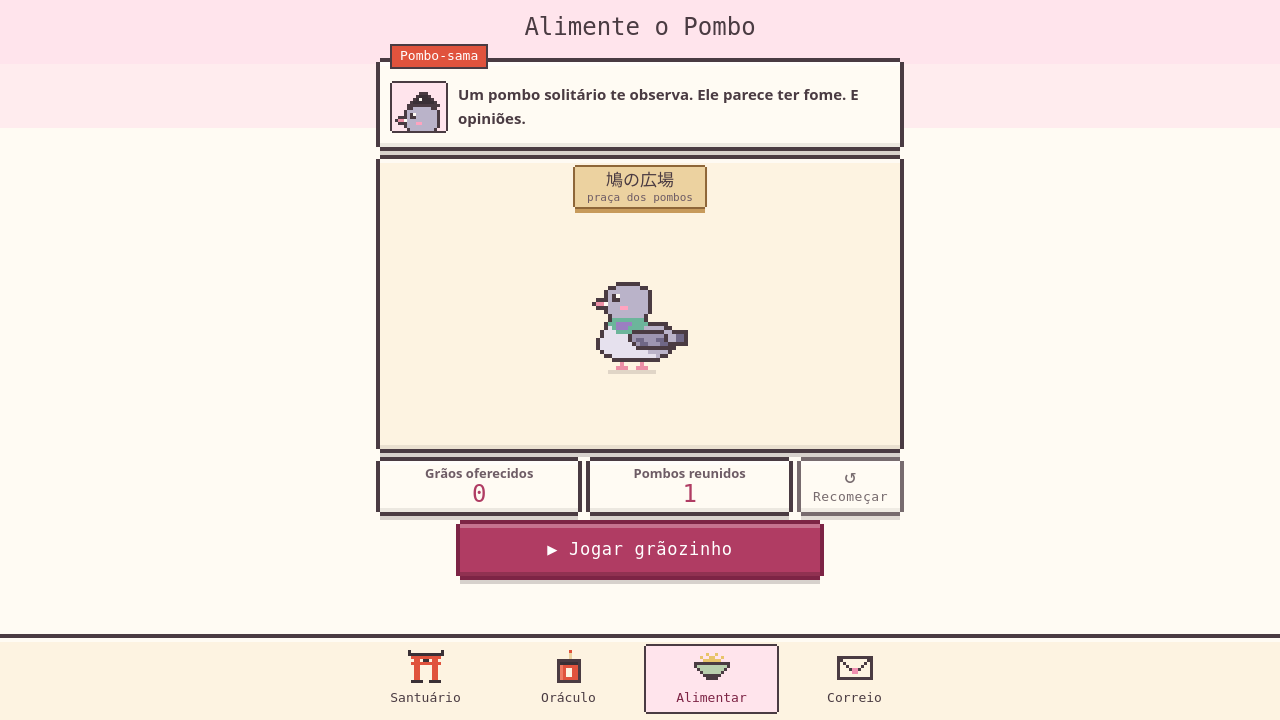
Scenario: Alimente o Pombo › cada grão soma no contador e faz um pombo bicar
Click the button "▶ Jogar grãozinho" at (640, 550), box [460,524,820,576]
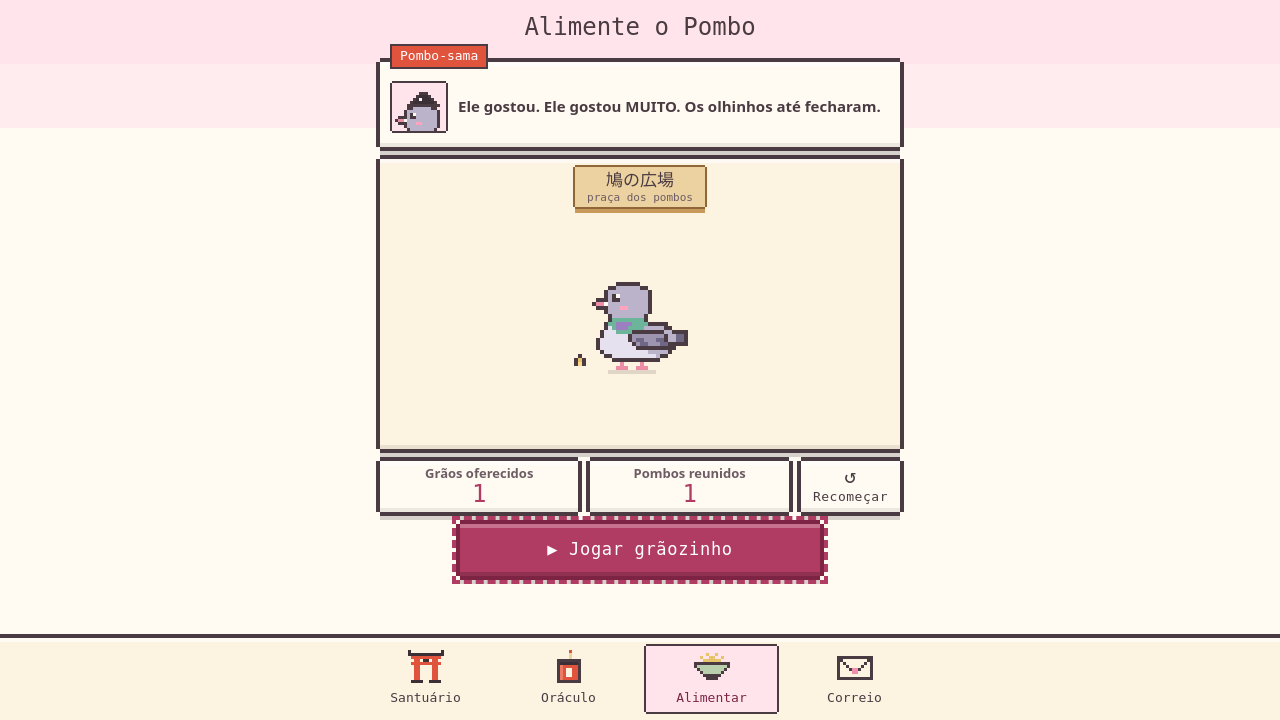
Expected: the number of elements with class "feed-grain" is 1, [574,354,586,366]
